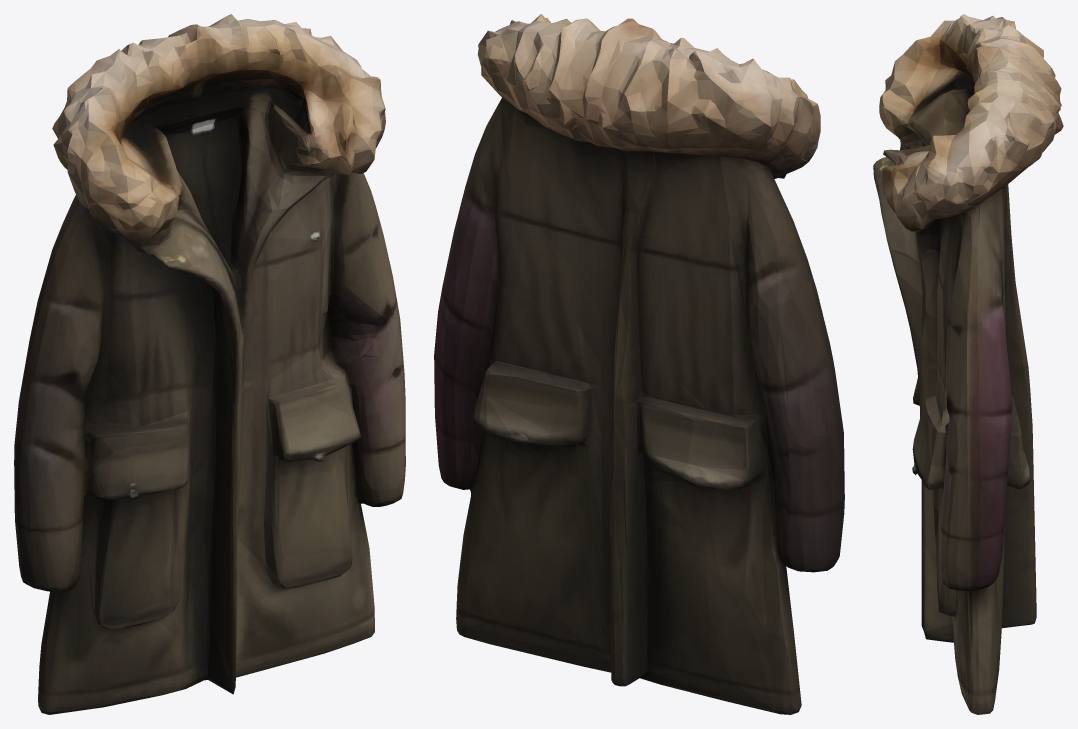
3 views of the same model, side by side, from view 1: azimuth 30°, elevation 25°; view 2: azimuth 150°, elevation 25°; view 3: azimuth 270°, elevation 25° (orthographic). The views are drawn at different scales.
Visible parts, largest first — view 1: geometry_0; view 2: geometry_0; view 3: geometry_0.
Part boxes in pixels (bbox=[...]): geometry_0: bbox=[14, 14, 405, 714]; geometry_0: bbox=[434, 14, 844, 714]; geometry_0: bbox=[873, 14, 1063, 714].
Bounding box in the file's own units: 0.6386 × 0.9993 × 0.2905.
1 material, 1 textured.
